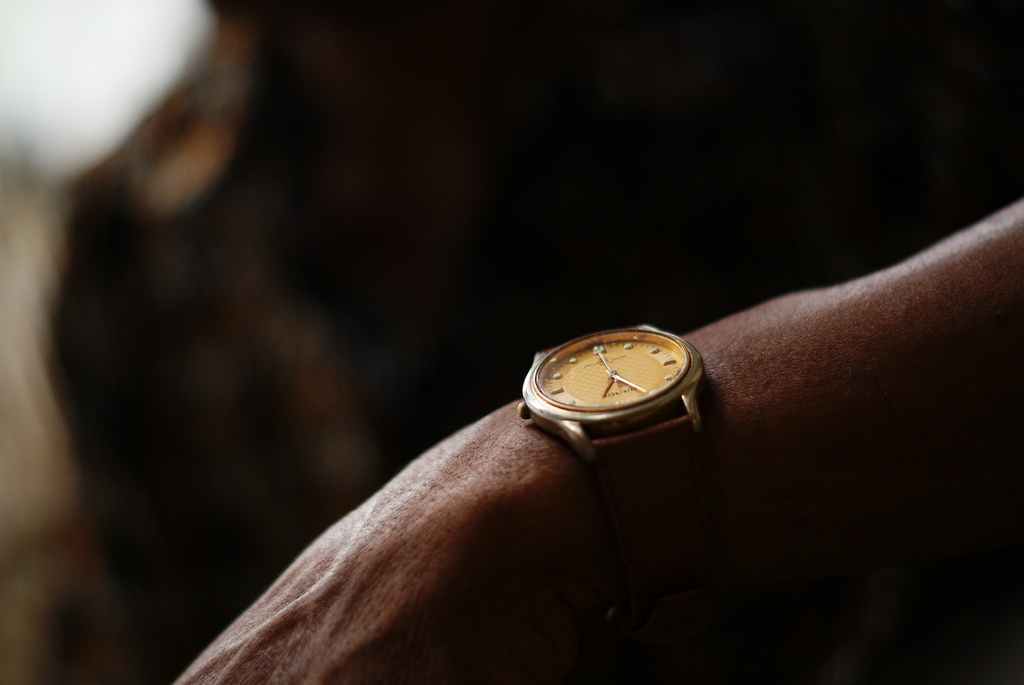watch: (509, 329, 719, 466)
